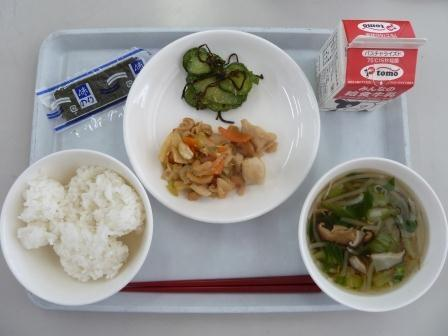Milk: (309, 12, 418, 119)
Rice: (3, 160, 151, 301)
Salad: (171, 42, 259, 111)
Soups: (297, 169, 441, 300)
vegetable based cooked food: (153, 111, 282, 204)
